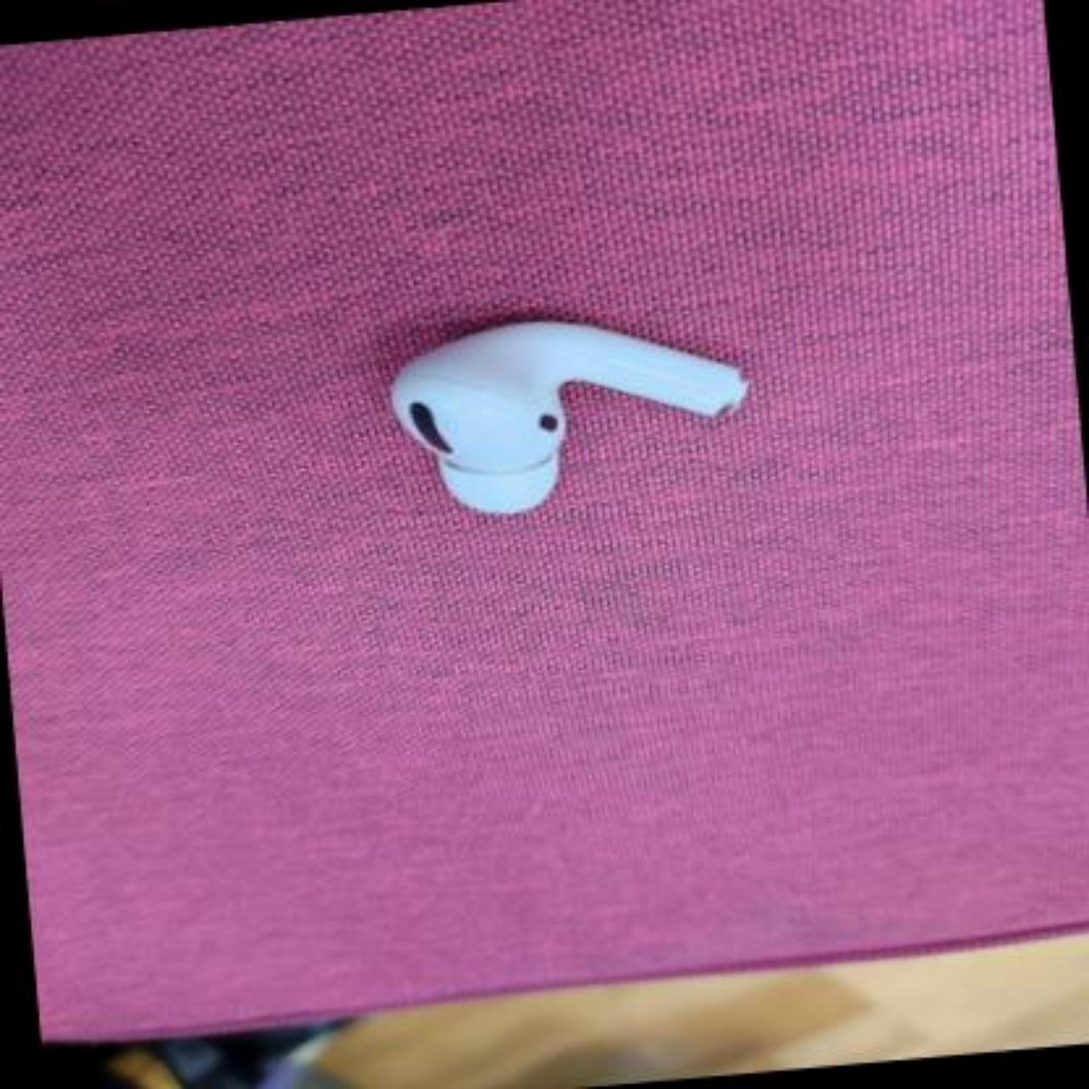Airpods_Units: (391, 262, 770, 539)
